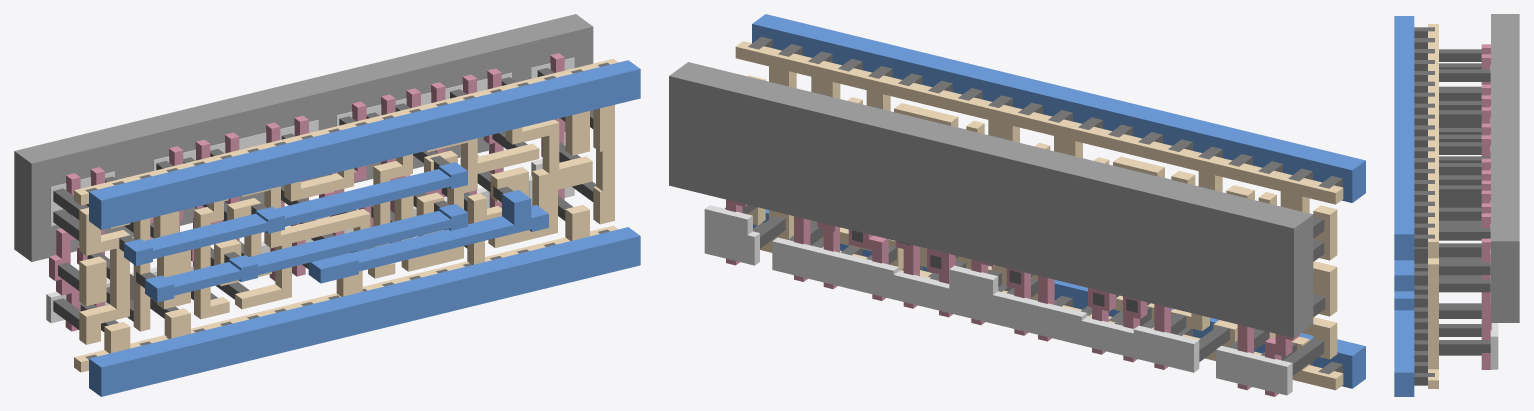
The model's file is sky130_fd_sc_hd__dfrtn_1.gds.gltf.
The picture shows the model from 3 angles, left to right: view 1: azimuth 30°, elevation 25°; view 2: azimuth 150°, elevation 25°; view 3: azimuth 270°, elevation 25°; orthographic projection. The views are drawn at different scales.
Visible parts, largest first — view 1: sky130_fd_sc_hd__dfrtn_1_met1, sky130_fd_sc_hd__dfrtn_1_li1, sky130_fd_sc_hd__dfrtn_1_nwell, sky130_fd_sc_hd__dfrtn_1_poly, sky130_fd_sc_hd__dfrtn_1_licon, sky130_fd_sc_hd__dfrtn_1_diff, sky130_fd_sc_hd__dfrtn_1_mcon; view 2: sky130_fd_sc_hd__dfrtn_1_nwell, sky130_fd_sc_hd__dfrtn_1_li1, sky130_fd_sc_hd__dfrtn_1_met1, sky130_fd_sc_hd__dfrtn_1_diff, sky130_fd_sc_hd__dfrtn_1_poly, sky130_fd_sc_hd__dfrtn_1_mcon, sky130_fd_sc_hd__dfrtn_1_licon; view 3: sky130_fd_sc_hd__dfrtn_1_licon, sky130_fd_sc_hd__dfrtn_1_nwell, sky130_fd_sc_hd__dfrtn_1_met1, sky130_fd_sc_hd__dfrtn_1_mcon, sky130_fd_sc_hd__dfrtn_1_li1, sky130_fd_sc_hd__dfrtn_1_poly, sky130_fd_sc_hd__dfrtn_1_diff.
Part boxes in pixels (x1=…): sky130_fd_sc_hd__dfrtn_1_met1: x1=89, y1=60, x2=640, y2=396; sky130_fd_sc_hd__dfrtn_1_li1: x1=74, y1=58, x2=618, y2=372; sky130_fd_sc_hd__dfrtn_1_nwell: x1=14, y1=14, x2=593, y2=261; sky130_fd_sc_hd__dfrtn_1_poly: x1=49, y1=53, x2=564, y2=331; sky130_fd_sc_hd__dfrtn_1_licon: x1=53, y1=68, x2=595, y2=331; sky130_fd_sc_hd__dfrtn_1_diff: x1=46, y1=57, x2=574, y2=323; sky130_fd_sc_hd__dfrtn_1_mcon: x1=85, y1=62, x2=609, y2=359; sky130_fd_sc_hd__dfrtn_1_nwell: x1=669, y1=62, x2=1313, y2=337; sky130_fd_sc_hd__dfrtn_1_li1: x1=735, y1=41, x2=1343, y2=390; sky130_fd_sc_hd__dfrtn_1_met1: x1=752, y1=14, x2=1365, y2=388; sky130_fd_sc_hd__dfrtn_1_diff: x1=704, y1=205, x2=1292, y2=395; sky130_fd_sc_hd__dfrtn_1_poly: x1=726, y1=199, x2=1299, y2=396; sky130_fd_sc_hd__dfrtn_1_mcon: x1=748, y1=36, x2=1342, y2=374; sky130_fd_sc_hd__dfrtn_1_licon: x1=724, y1=82, x2=1325, y2=375; sky130_fd_sc_hd__dfrtn_1_licon: x1=1439, y1=49, x2=1490, y2=355; sky130_fd_sc_hd__dfrtn_1_nwell: x1=1491, y1=14, x2=1519, y2=322; sky130_fd_sc_hd__dfrtn_1_met1: x1=1394, y1=16, x2=1414, y2=396; sky130_fd_sc_hd__dfrtn_1_mcon: x1=1414, y1=27, x2=1434, y2=385; sky130_fd_sc_hd__dfrtn_1_li1: x1=1428, y1=24, x2=1438, y2=388; sky130_fd_sc_hd__dfrtn_1_poly: x1=1481, y1=44, x2=1491, y2=369; sky130_fd_sc_hd__dfrtn_1_diff: x1=1490, y1=65, x2=1498, y2=369.
Size of the model in its own units: 9.58 by 3.2 by 2.24.
